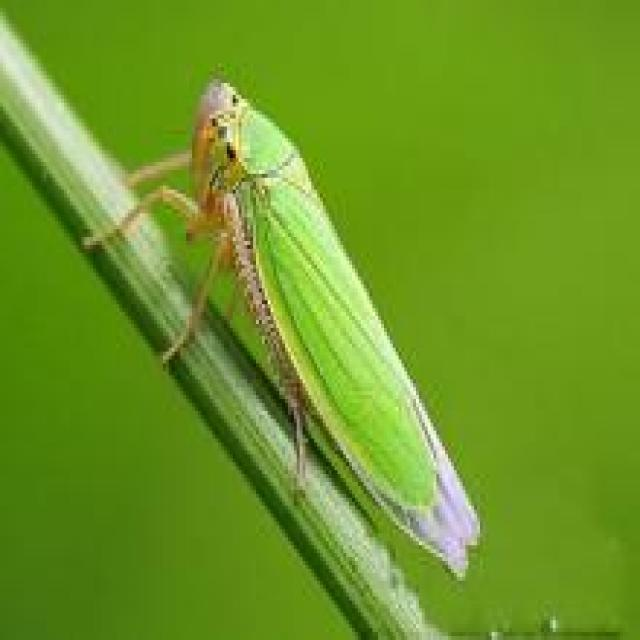Yechan: (158, 66, 494, 581)
